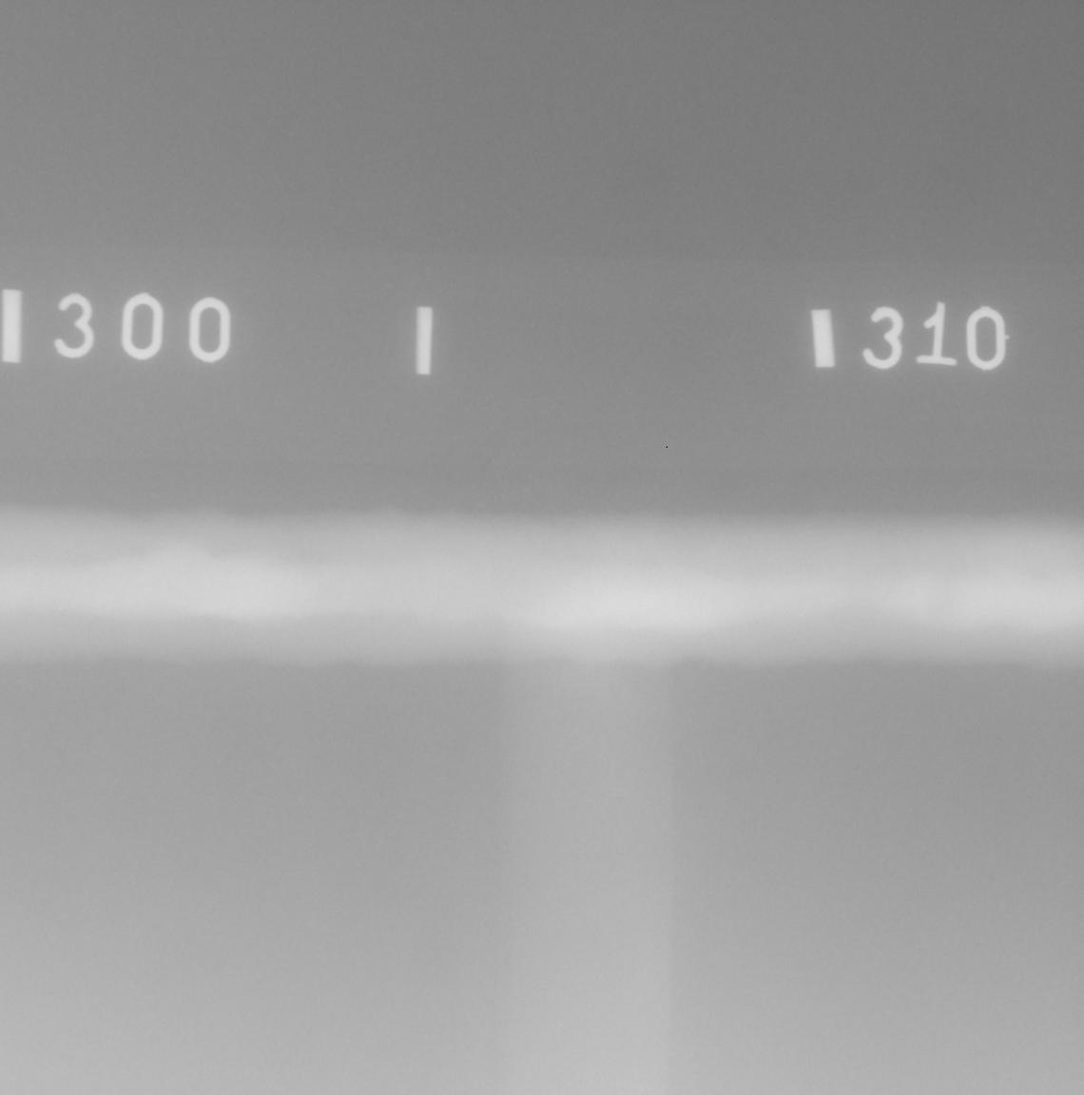Inclusion: (1018, 568, 1048, 580), (167, 587, 174, 590)
